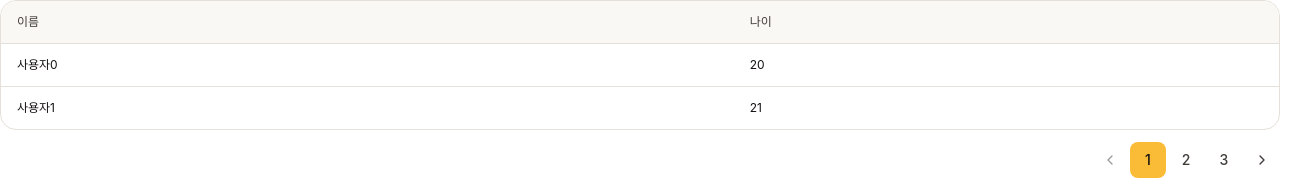
Test: DataTable › 다음 페이지로 이동하면 다음 행을 렌더한다
Click the button named "다음". click: x=1262, y=160
box: left=1244, top=142, right=1280, bottom=178
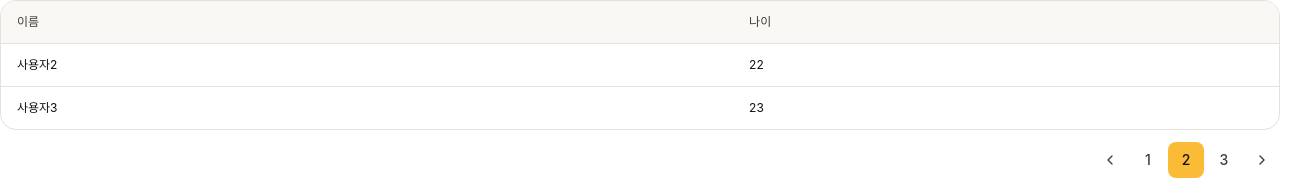
Check: the text "사용자2" is shown, box left=1, top=44, right=733, bottom=86
Check: the text "사용자0" is gone
